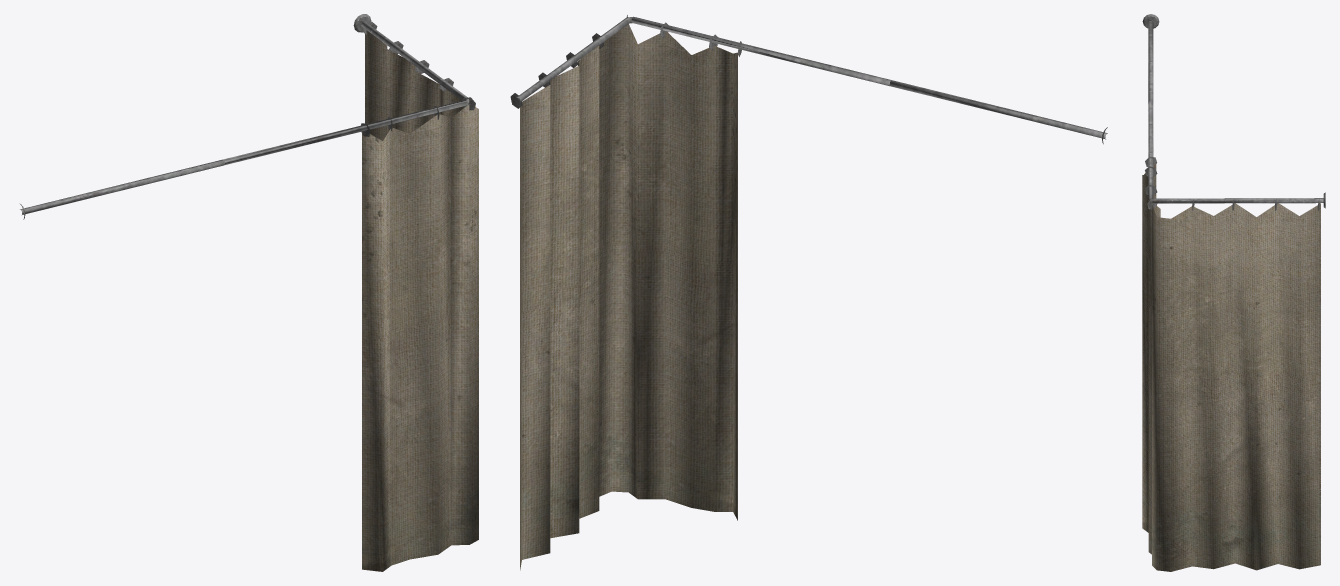
File: Prop_Yl01.glb
3 renders of one model, left to right at view 1: azimuth 30°, elevation 25°; view 2: azimuth 150°, elevation 25°; view 3: azimuth 270°, elevation 25°, orthographic. The views are drawn at different scales.
Parts seen in each view (by area): view 1: xiutz_yl_01; view 2: xiutz_yl_01; view 3: xiutz_yl_01.
Part boxes in pixels (bbox=[...]): xiutz_yl_01: bbox=[19, 14, 478, 571]; xiutz_yl_01: bbox=[510, 15, 1107, 570]; xiutz_yl_01: bbox=[1142, 14, 1325, 571].
Bounding box in the file's own units: 3.79 × 3.52 × 1.57.
Materials: 1 (1 with a texture image).
